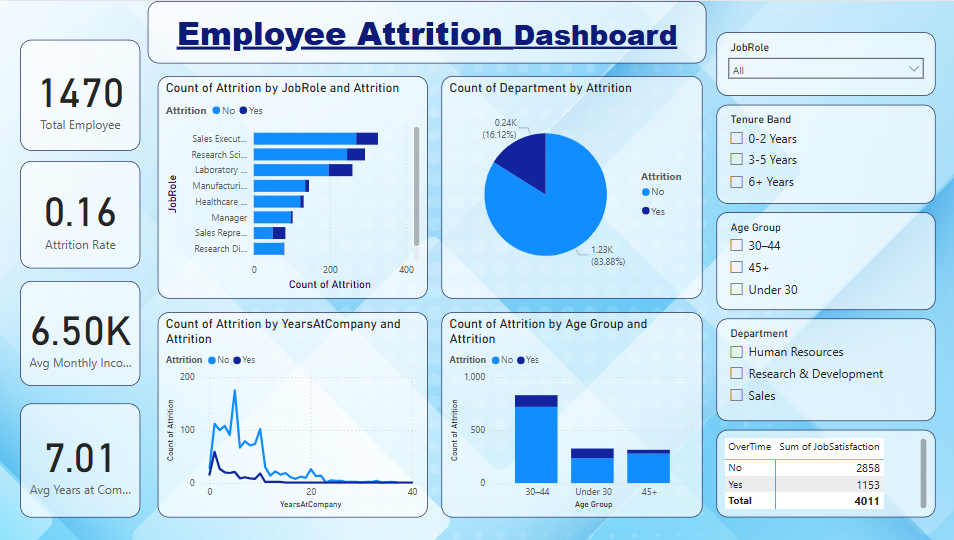

This screenshot's page, from the dashboard's own definition file:
{"tool":"powerbi","page":{"name":"Page 1","canvas":[1280,720],"ordinal":0},"visuals":[{"type":"card","fields":{"Values":["CountNonNull(HR-Employee-Attrition.EmployeeCount)"]},"box":[28.3,51.4,160,148.3],"z":0},{"type":"card","fields":{"Values":["HR-Employee-Attrition.Attrition Rate"]},"box":[28.3,213.1,160,143.3],"z":1000},{"type":"card","fields":{"Values":["Avg(HR-Employee-Attrition.MonthlyIncome)"]},"box":[28.3,373.1,160,140],"z":2000},{"type":"card","fields":{"Values":["Avg(HR-Employee-Attrition.YearsAtCompany)"]},"box":[28.3,536.4,160,151.7],"z":3000},{"type":"pieChart","fields":{"Category":["HR-Employee-Attrition.Attrition"],"Y":["CountNonNull(HR-Employee-Attrition.Department)"]},"box":[590,99.7,348.3,296.7],"z":4000},{"type":"barChart","fields":{"Y":["CountNonNull(HR-Employee-Attrition.Attrition)"],"Category":["HR-Employee-Attrition.JobRole"],"Series":["HR-Employee-Attrition.Attrition"]},"box":[211.7,99.7,360,296.7],"z":5000},{"type":"columnChart","fields":{"Y":["CountNonNull(HR-Employee-Attrition.Attrition)"],"Category":["HR-Employee-Attrition.Age Group"],"Series":["HR-Employee-Attrition.Attrition"]},"box":[590,414.7,348.3,273.3],"z":6000},{"type":"lineChart","fields":{"Series":["HR-Employee-Attrition.Attrition"],"Y":["CountNonNull(HR-Employee-Attrition.Attrition)"],"Category":["HR-Employee-Attrition.YearsAtCompany"]},"box":[211.7,414.7,360,273.3],"z":7000},{"type":"pivotTable","fields":{"Values":["Sum(HR-Employee-Attrition.JobSatisfaction)"],"Rows":["HR-Employee-Attrition.OverTime"]},"box":[956.7,571.4,291.7,116.7],"z":8000},{"type":"slicer","fields":{"Values":["HR-Employee-Attrition.Age Group"]},"box":[956.7,281.4,291.7,130],"z":9000},{"type":"slicer","fields":{"Values":["HR-Employee-Attrition.Department"]},"box":[956.7,423.1,291.7,136.7],"z":10000},{"type":"slicer","fields":{"Values":["HR-Employee-Attrition.JobRole"]},"box":[956.7,41.4,291.7,85],"z":11000},{"type":"slicer","fields":{"Values":["HR-Employee-Attrition.Tenure Band"]},"box":[956.7,138.1,291.7,131.7],"z":11001},{"type":"textbox","box":[198.3,0,745,83.3],"z":11002}]}

Visuals, with their boxes in screenshot pixels (x1, y1, x2, y2), scaled from the page's 1280x720 canvas onto the 954x540 screenshot:
card - CountNonNull(HR-Employee-Attrition.EmployeeCount): {"left": 21, "top": 39, "right": 140, "bottom": 150}
card - HR-Employee-Attrition.Attrition Rate: {"left": 21, "top": 160, "right": 140, "bottom": 267}
card - Avg(HR-Employee-Attrition.MonthlyIncome): {"left": 21, "top": 280, "right": 140, "bottom": 385}
card - Avg(HR-Employee-Attrition.YearsAtCompany): {"left": 21, "top": 402, "right": 140, "bottom": 516}
pieChart - HR-Employee-Attrition.Attrition x CountNonNull(HR-Employee-Attrition.Department): {"left": 440, "top": 75, "right": 699, "bottom": 297}
barChart - CountNonNull(HR-Employee-Attrition.Attrition) x HR-Employee-Attrition.JobRole: {"left": 158, "top": 75, "right": 426, "bottom": 297}
columnChart - CountNonNull(HR-Employee-Attrition.Attrition) x HR-Employee-Attrition.Age Group: {"left": 440, "top": 311, "right": 699, "bottom": 516}
lineChart - HR-Employee-Attrition.Attrition x CountNonNull(HR-Employee-Attrition.Attrition): {"left": 158, "top": 311, "right": 426, "bottom": 516}
pivotTable - Sum(HR-Employee-Attrition.JobSatisfaction) x HR-Employee-Attrition.OverTime: {"left": 713, "top": 429, "right": 930, "bottom": 516}
slicer - HR-Employee-Attrition.Age Group: {"left": 713, "top": 211, "right": 930, "bottom": 309}
slicer - HR-Employee-Attrition.Department: {"left": 713, "top": 317, "right": 930, "bottom": 420}
slicer - HR-Employee-Attrition.JobRole: {"left": 713, "top": 31, "right": 930, "bottom": 95}
slicer - HR-Employee-Attrition.Tenure Band: {"left": 713, "top": 104, "right": 930, "bottom": 202}
textbox: {"left": 148, "top": 0, "right": 703, "bottom": 62}
